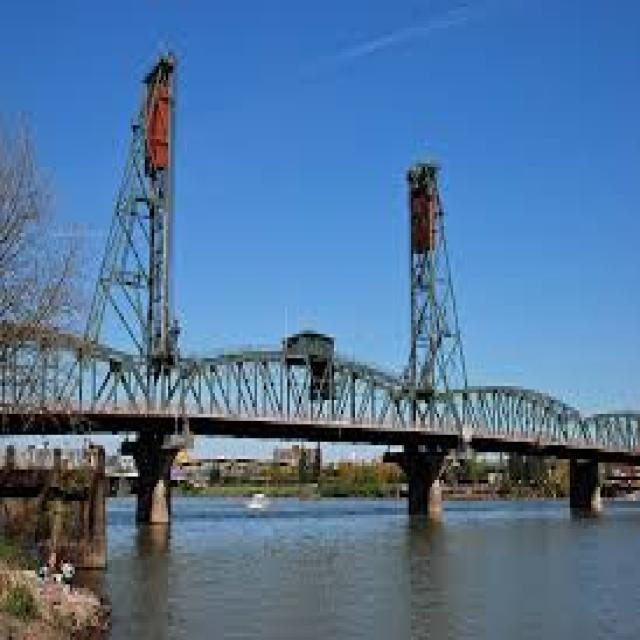Bridges: (4, 48, 640, 528)
